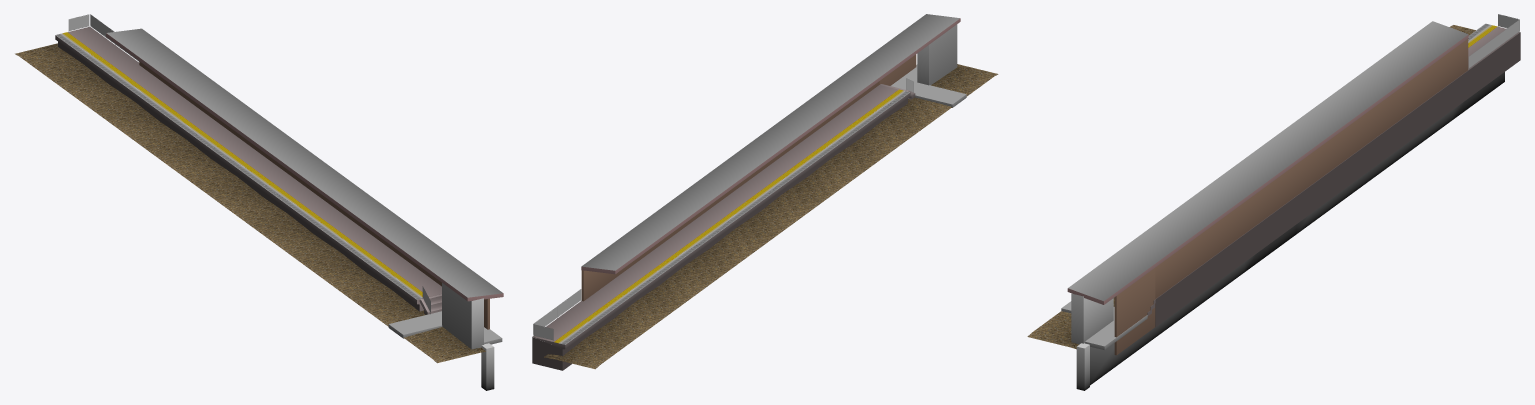
3 renders of one model, left to right at view 1: azimuth 30°, elevation 25°; view 2: azimuth 150°, elevation 25°; view 3: azimuth 330°, elevation 25°, orthographic. The views are drawn at different scales.
Parts seen in each view (by area): view 1: Model, Joint_11111111, Joint_1; view 2: Model, Joint_11111111, Joint_1; view 3: Model, Joint_11111111, Joint_1.
Part boxes in pixels (<box>): Model: <box>15,27,503,390</box>; Joint_11111111: <box>388,283,502,349</box>; Joint_1: <box>68,14,139,61</box>; Model: <box>532,14,998,370</box>; Joint_11111111: <box>891,24,966,107</box>; Joint_1: <box>533,289,581,341</box>; Model: <box>1027,21,1520,390</box>; Joint_11111111: <box>1061,293,1147,349</box>; Joint_1: <box>1468,14,1519,69</box>.
Size of the model in its own units: 19.89 by 24.84 by 205.
35 materials, 4 textured.
